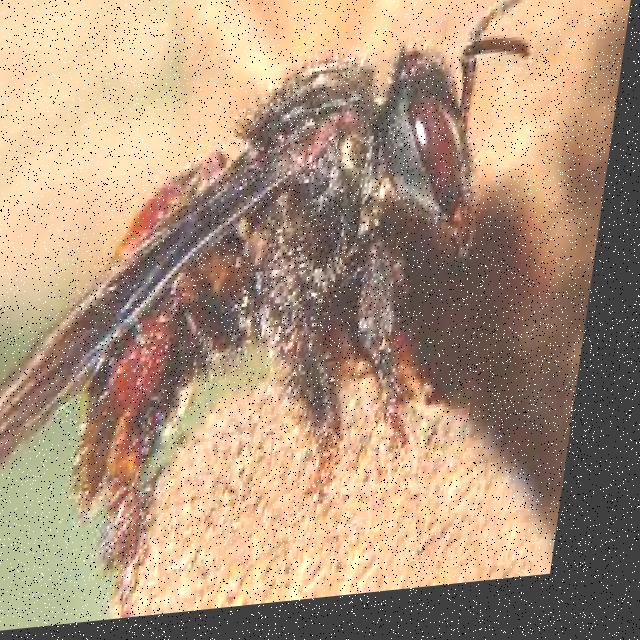Meliponula: (0, 0, 579, 605)
